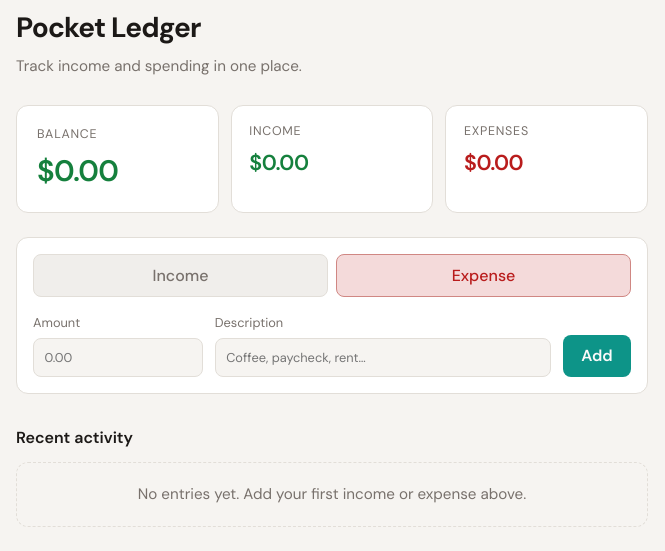
Test case: App › adds a transaction via form
Type "25" into the number field with test id "input-amount" at (118, 358), box [33, 338, 203, 377]
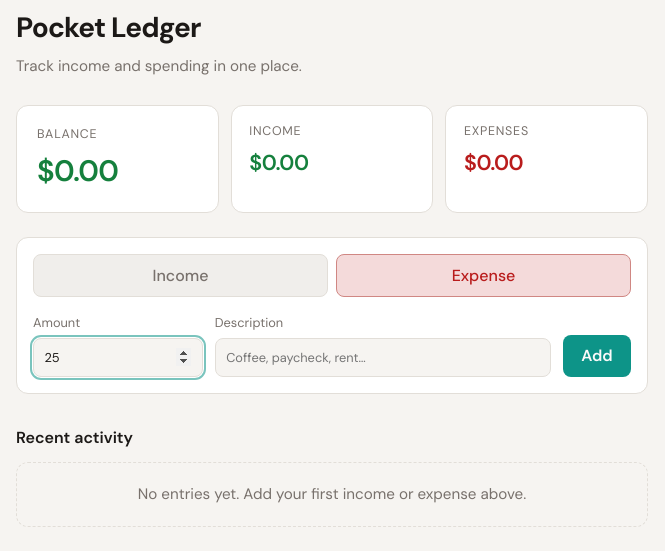
Type "groceries" into the field with test id "input-label" at (383, 358), box [215, 338, 551, 377]
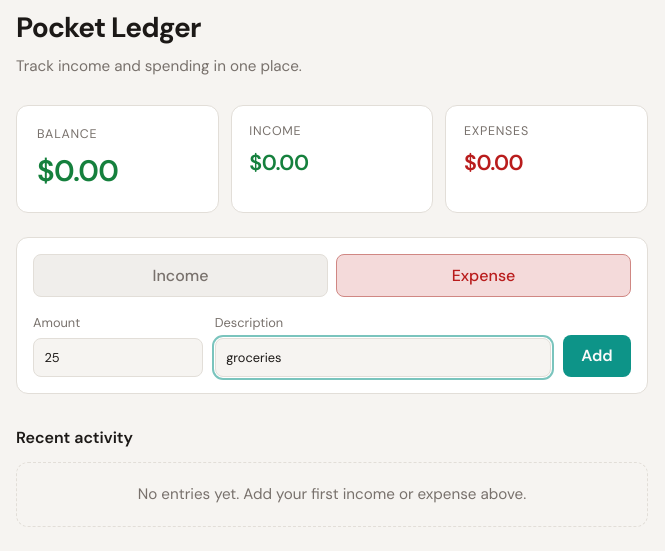
Click the button with test id "submit-add" at (597, 356), box [563, 335, 631, 377]
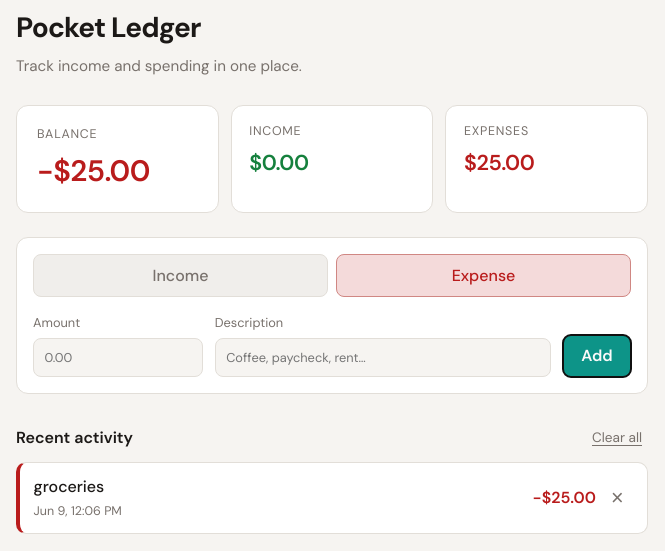
Result: the list with test id "transaction-list" is shown at [16, 462, 648, 534]
Result: the text "groceries" is shown at [34, 476, 104, 497]
Result: the text with test id "expense-total" shows "$25" at [464, 149, 534, 177]
